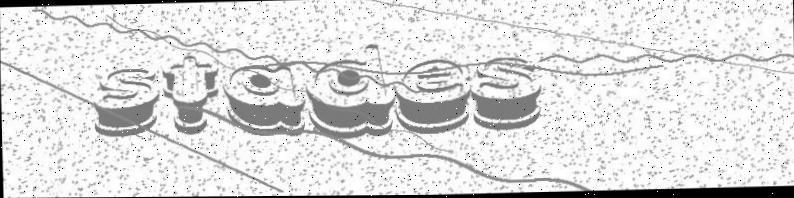a: (224, 65, 303, 136)
d: (304, 45, 395, 140)
e: (395, 59, 471, 134)
s: (469, 57, 542, 130), (94, 68, 160, 136)
t: (163, 55, 220, 135)
